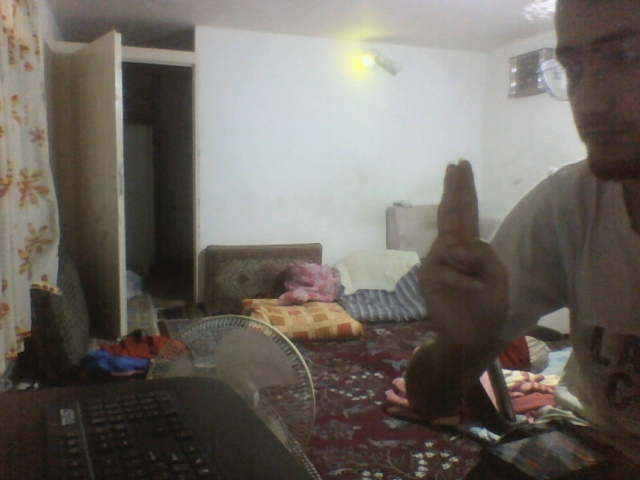Azadi: (419, 157, 518, 352)
sorat: (555, 2, 640, 177)
